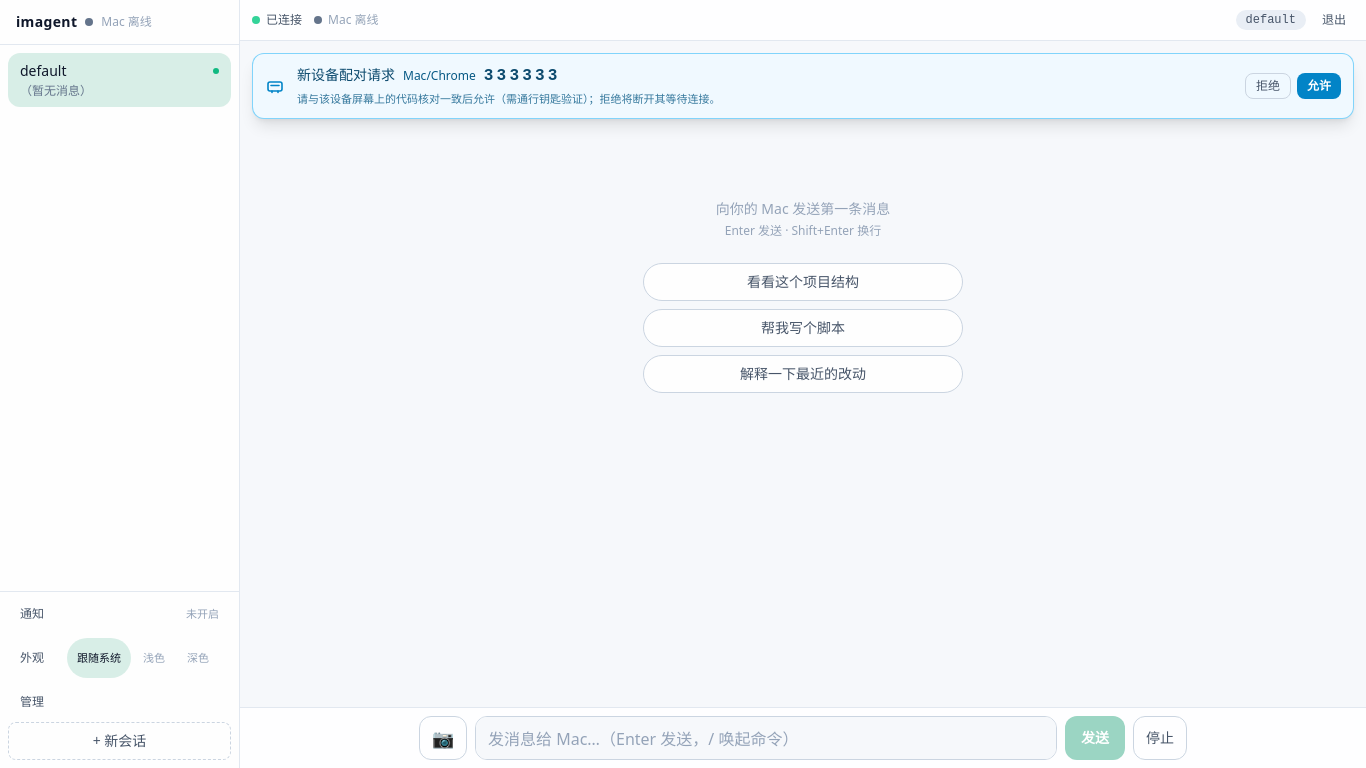
App 配对批准侧（v1.5） › re-auth 取消：不发帧、卡片保留并给出提示
Click the button "允许". click: (1319, 86)
box: left=1297, top=73, right=1341, bottom=99
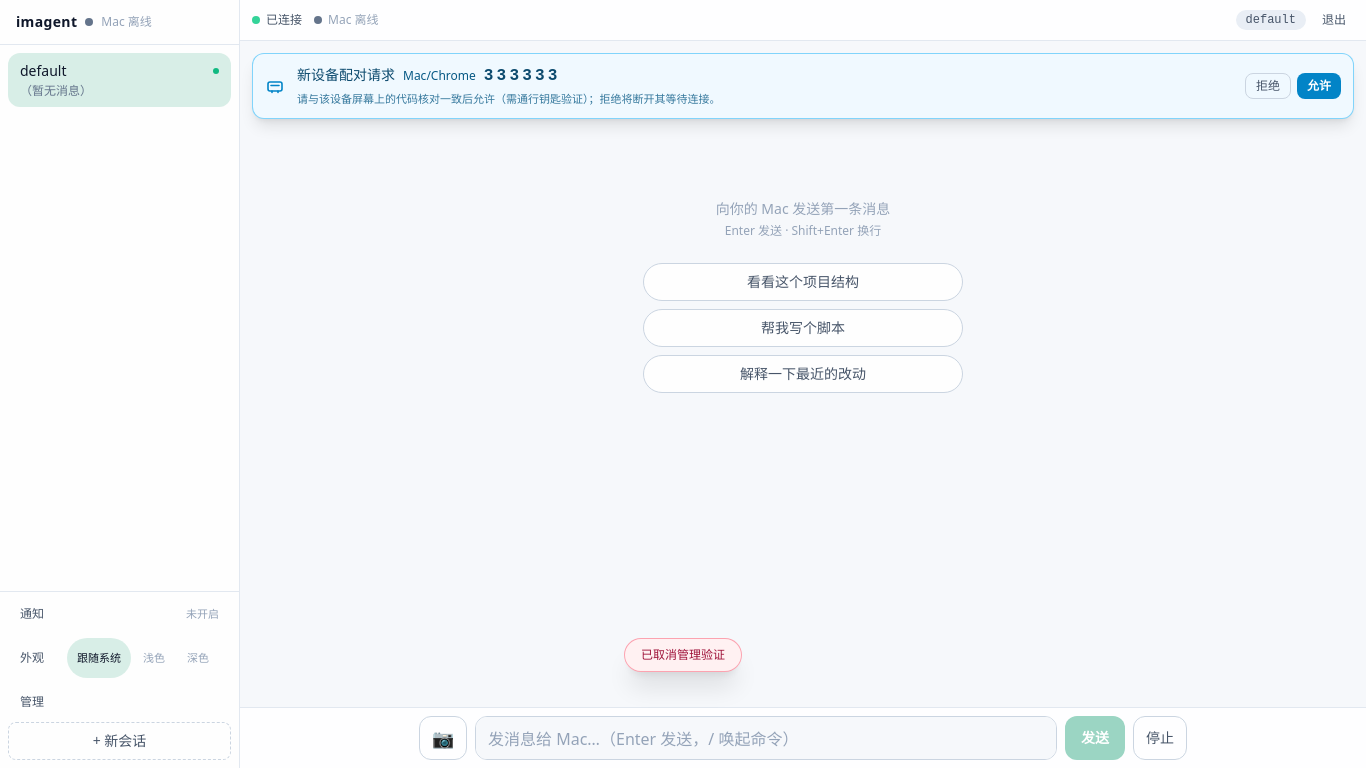
Check: the dialog "新设备配对请求" is shown, box left=252, top=53, right=1354, bottom=119
Check: the text "已取消管理验证" is shown, box left=624, top=638, right=742, bottom=672
